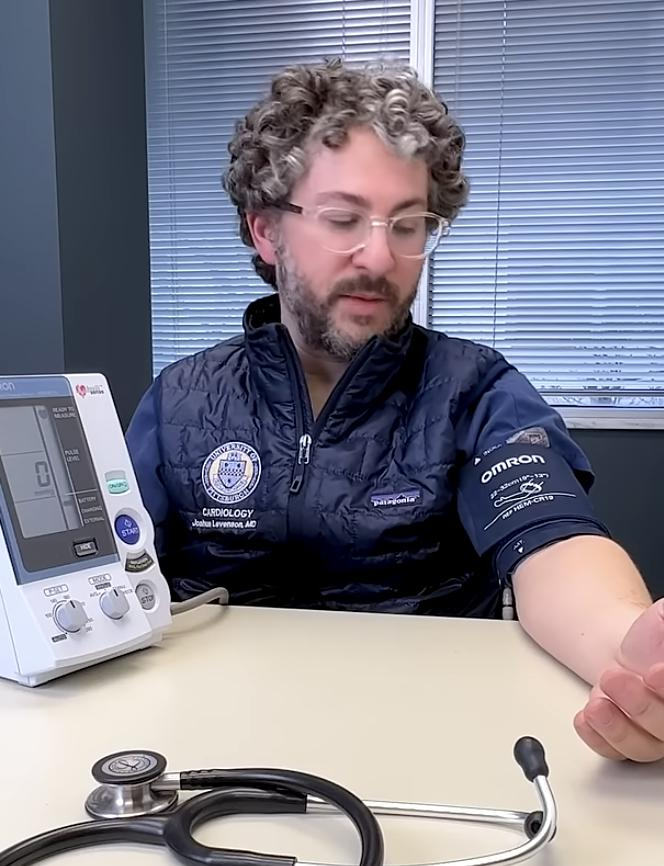cuff: (458, 443, 604, 572)
